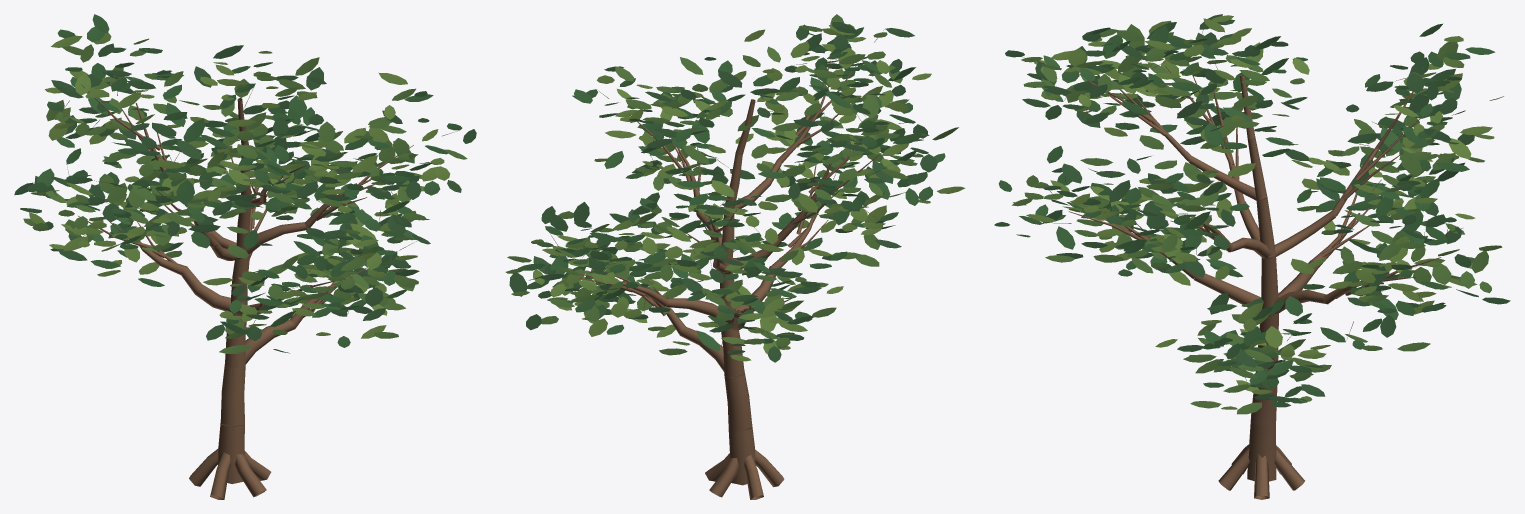
File: Arbousier_0_Low.fbx
3 renders of one model, left to right at view 1: azimuth 30°, elevation 25°; view 2: azimuth 150°, elevation 25°; view 3: azimuth 270°, elevation 25°, orthographic. The views are drawn at different scales.
Parts seen in each view (by area): view 1: Arbousier_0_Low; view 2: Arbousier_0_Low; view 3: Arbousier_0_Low.
Boxes of the visible parts, x1,y1,x2,y2 form: Arbousier_0_Low: (14, 14, 476, 499); Arbousier_0_Low: (505, 14, 965, 499); Arbousier_0_Low: (994, 14, 1510, 499).
Size of the model in its own units: 481 by 529 by 528.
